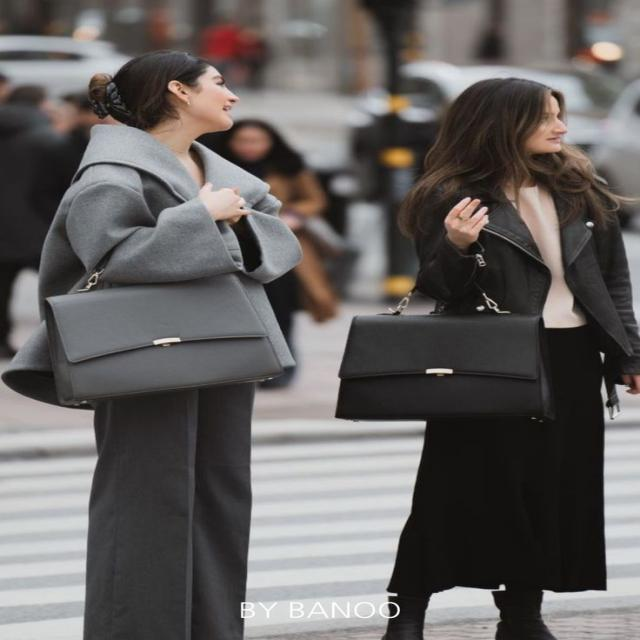bag: (32, 253, 338, 412), (302, 296, 573, 441)
person: (339, 49, 578, 640), (22, 53, 262, 640)
